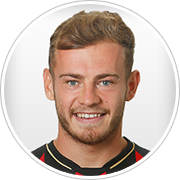smile: (71, 108, 106, 123)
